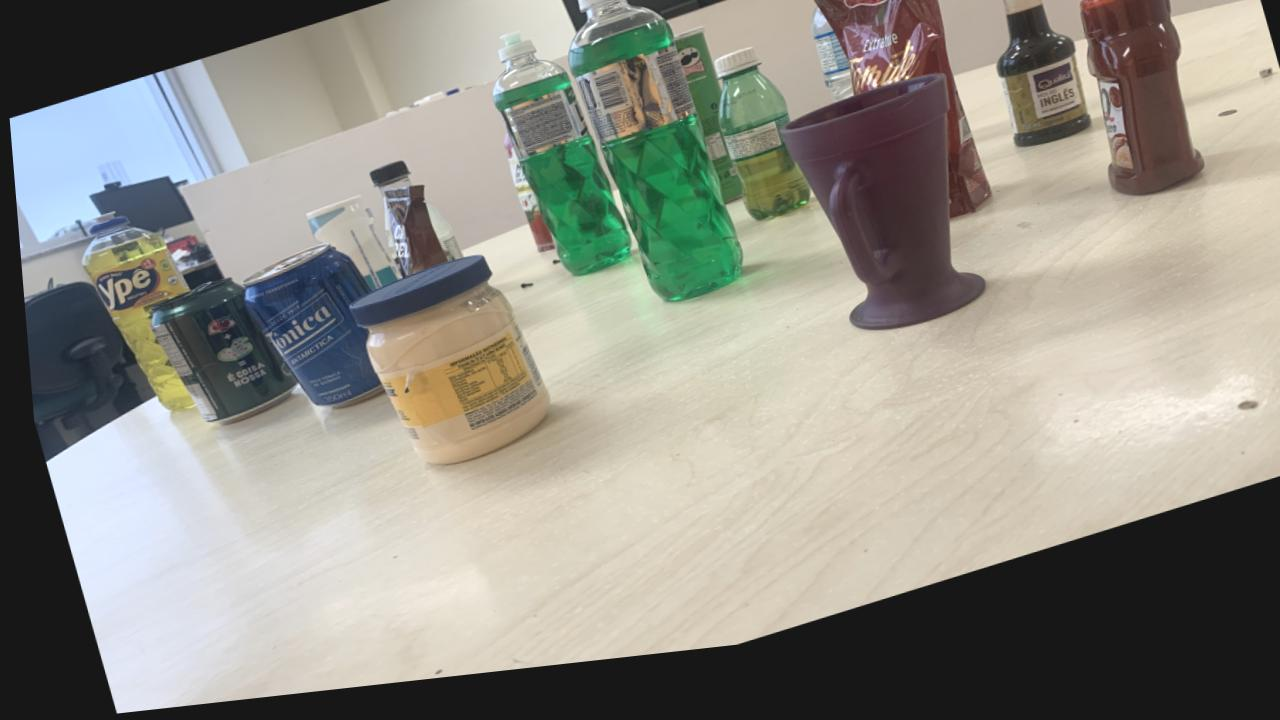Cleaner-Cleanup_Items: (303, 204, 392, 297)
Coffee-Pantry_Items: (378, 194, 443, 284)
Detergent-Cleanup_Items: (565, 0, 737, 316), (489, 43, 625, 288), (76, 216, 185, 414)
English_Sauce-Pantry_Items: (992, 0, 1086, 170)
Guarana-Drinks: (711, 64, 805, 237)
Guarana_Can-Drinks: (145, 282, 290, 428)
Ketchup-Pantry_Items: (1077, 0, 1199, 221)
Mayonnaise-Pantry_Items: (343, 265, 541, 473)
Pringles-Snacks: (671, 43, 738, 217)
Soda-Drinks: (422, 213, 457, 270), (365, 168, 407, 206), (378, 210, 394, 278)
Tomato_Sauce-Pantry_Items: (804, 0, 986, 239), (500, 146, 550, 264)
Tonic-Drinks: (237, 250, 375, 414)
Water_Bottle-Drinks: (808, 28, 851, 120)
